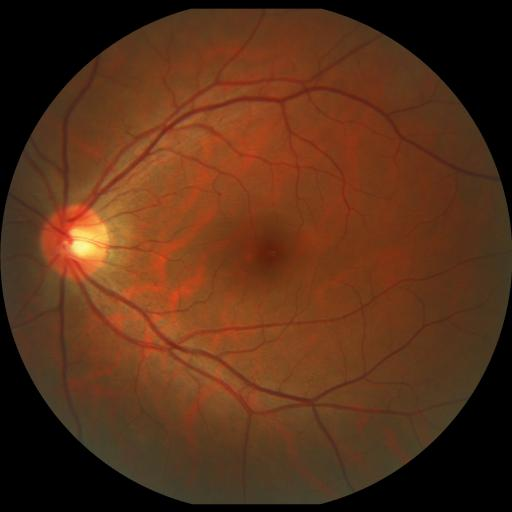Optic Cup: (62, 229, 93, 258)
Optic Disc: (41, 205, 110, 283)
